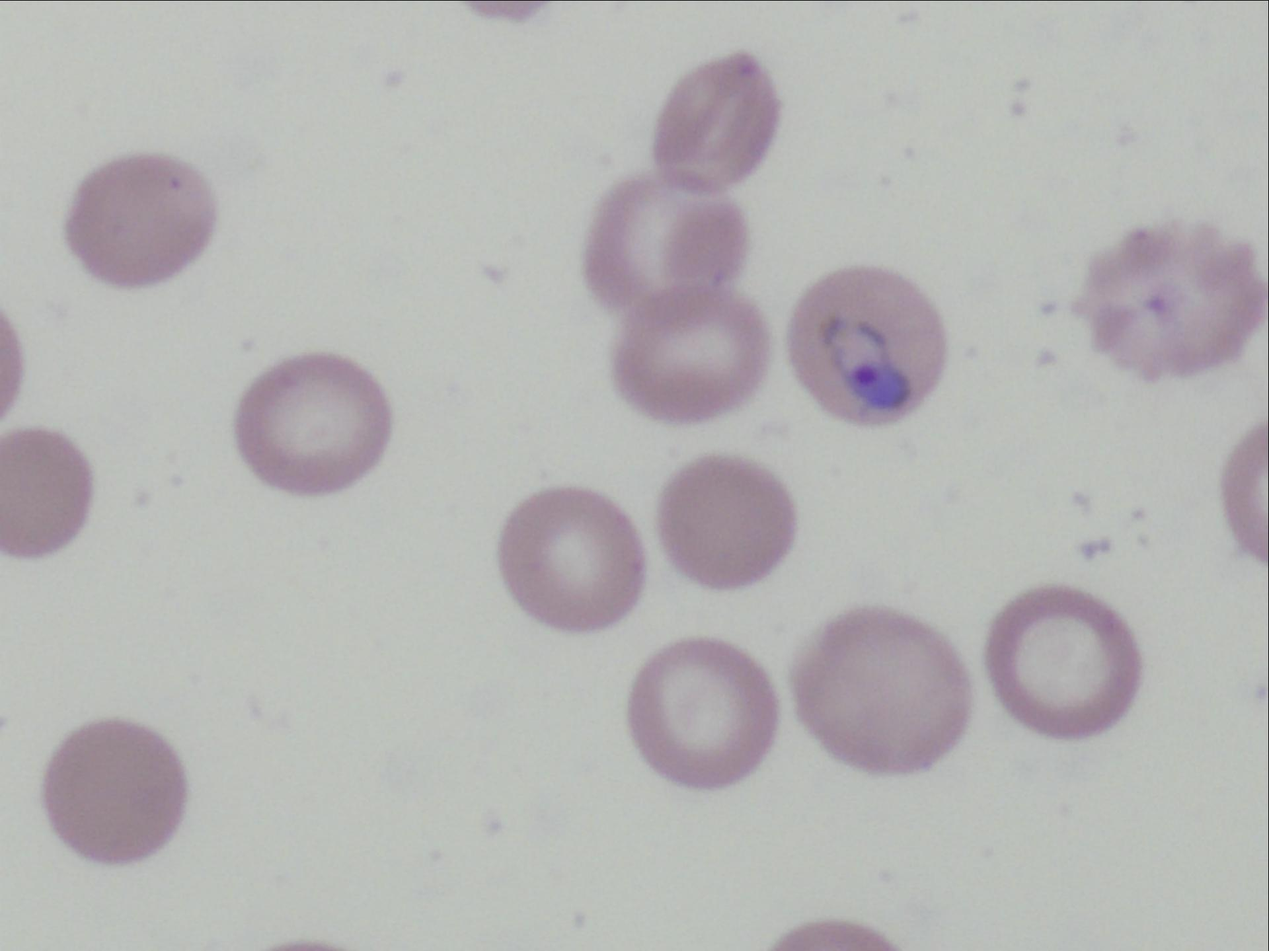Infected: (784, 269, 949, 433)
Uninfected: (1084, 217, 1269, 383), (798, 604, 975, 775), (584, 168, 742, 331), (983, 587, 1140, 740), (229, 349, 386, 498), (37, 717, 184, 871), (610, 281, 768, 424), (630, 637, 781, 786), (62, 151, 219, 293), (505, 483, 645, 631), (661, 455, 790, 593), (659, 51, 780, 195)
